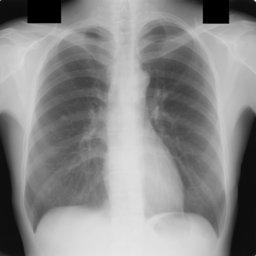left lobe: (141, 25, 225, 232)
right lobe: (26, 27, 112, 230)
